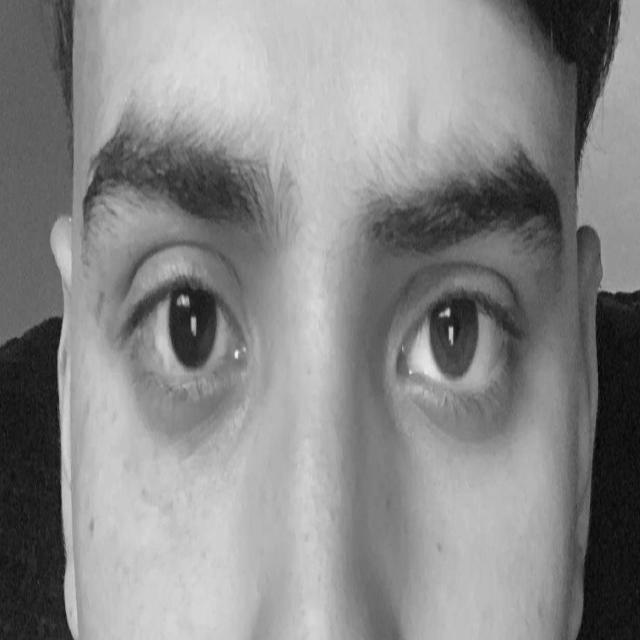real: (89, 126, 562, 496)
